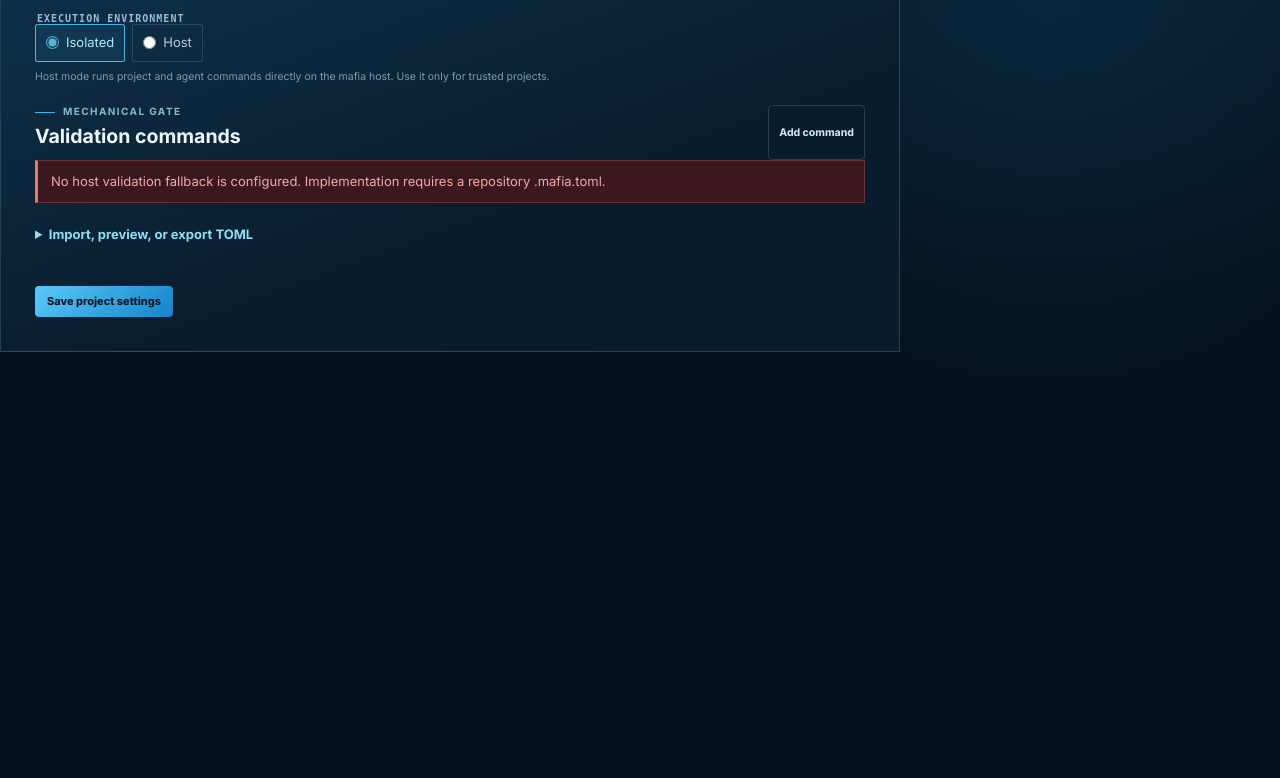
ProjectSettingsForm › links every invalid timeout to its own error and blocks submission
Click the button "Add command".
click(817, 132)  # box [768,105,865,160]
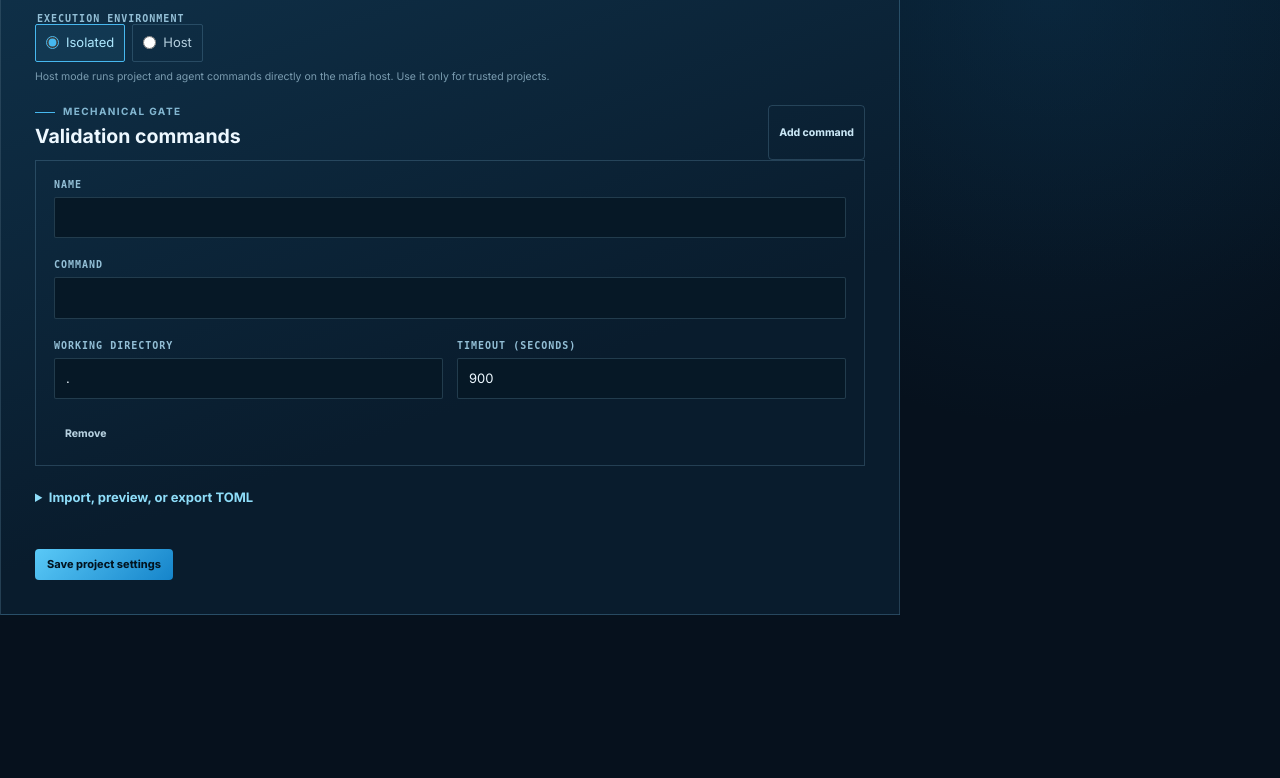
Click the button "Add command".
click(817, 132)  # box [768,105,865,160]
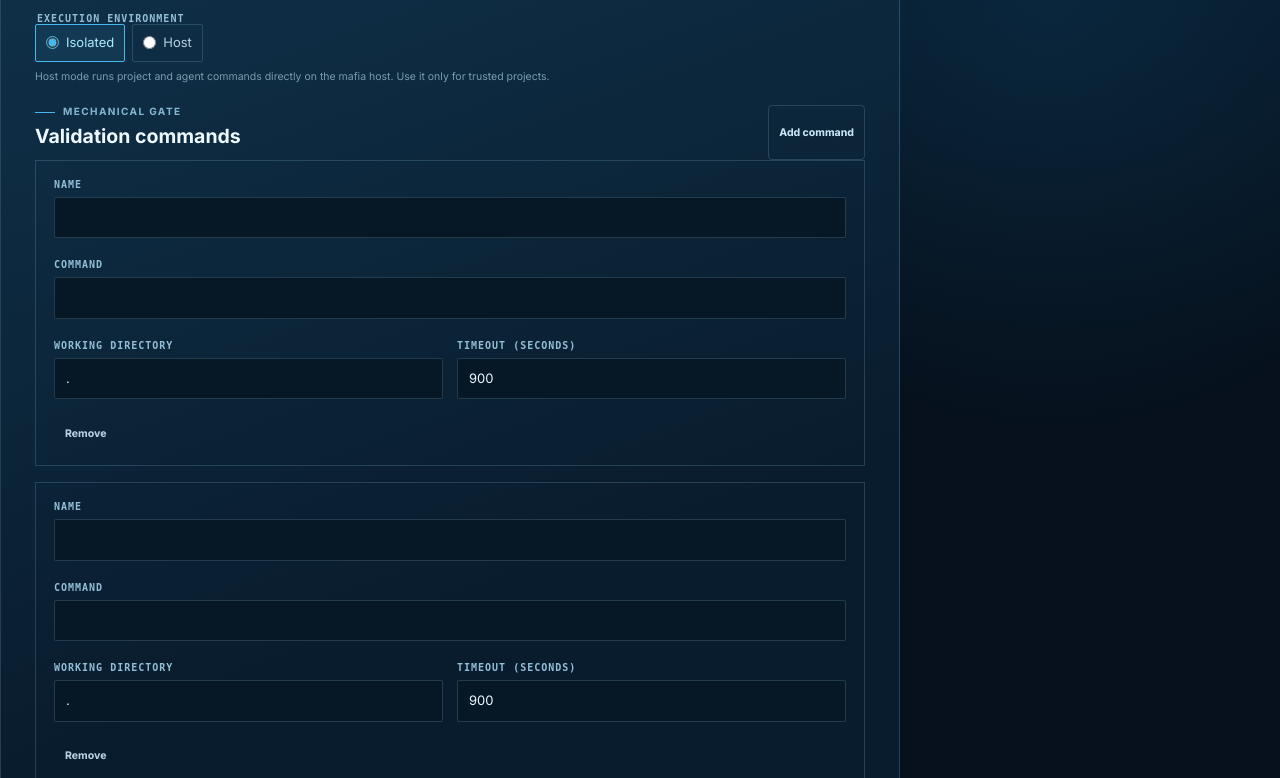
Replace the text in the 1st number field labelled "Timeout (seconds)" with "0" at (652, 378), box [457,358,846,399]
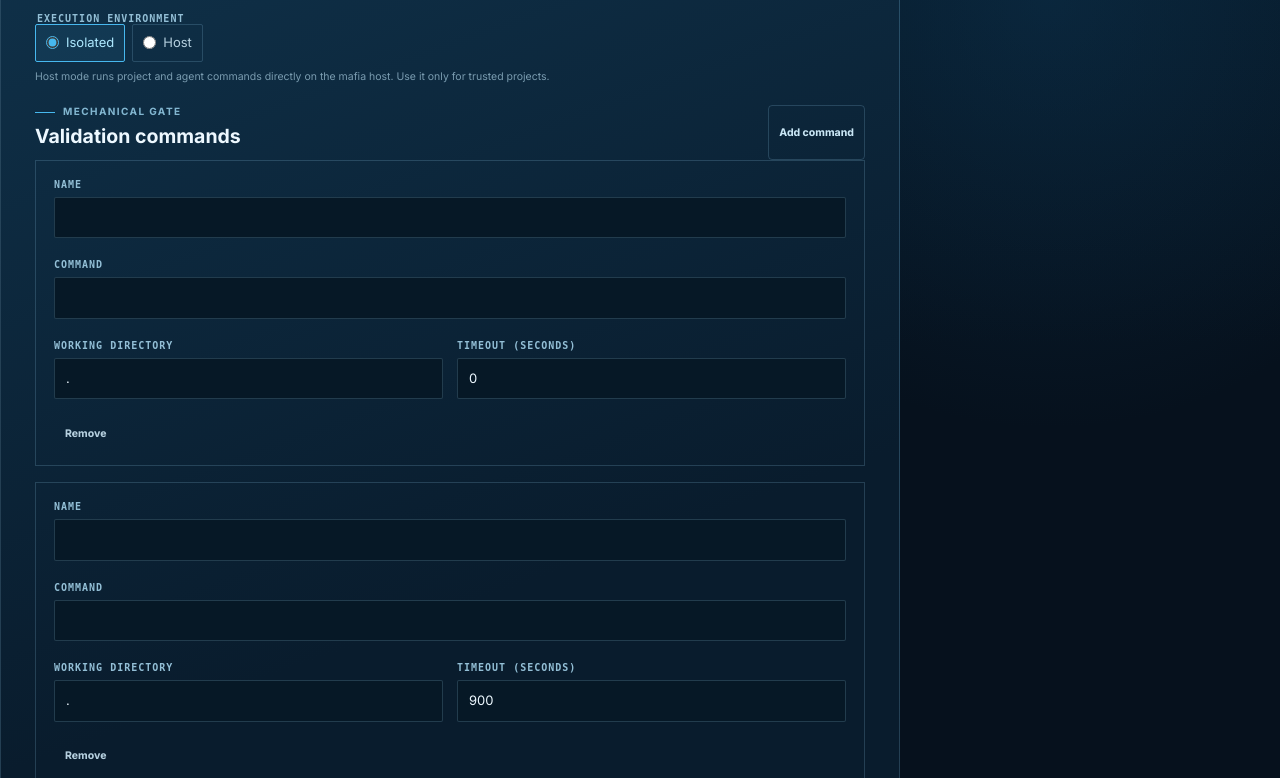
Replace the text in the 2nd number field labelled "Timeout (seconds)" with "3601" at (652, 701), box [457,680,846,722]
(page scrolled)
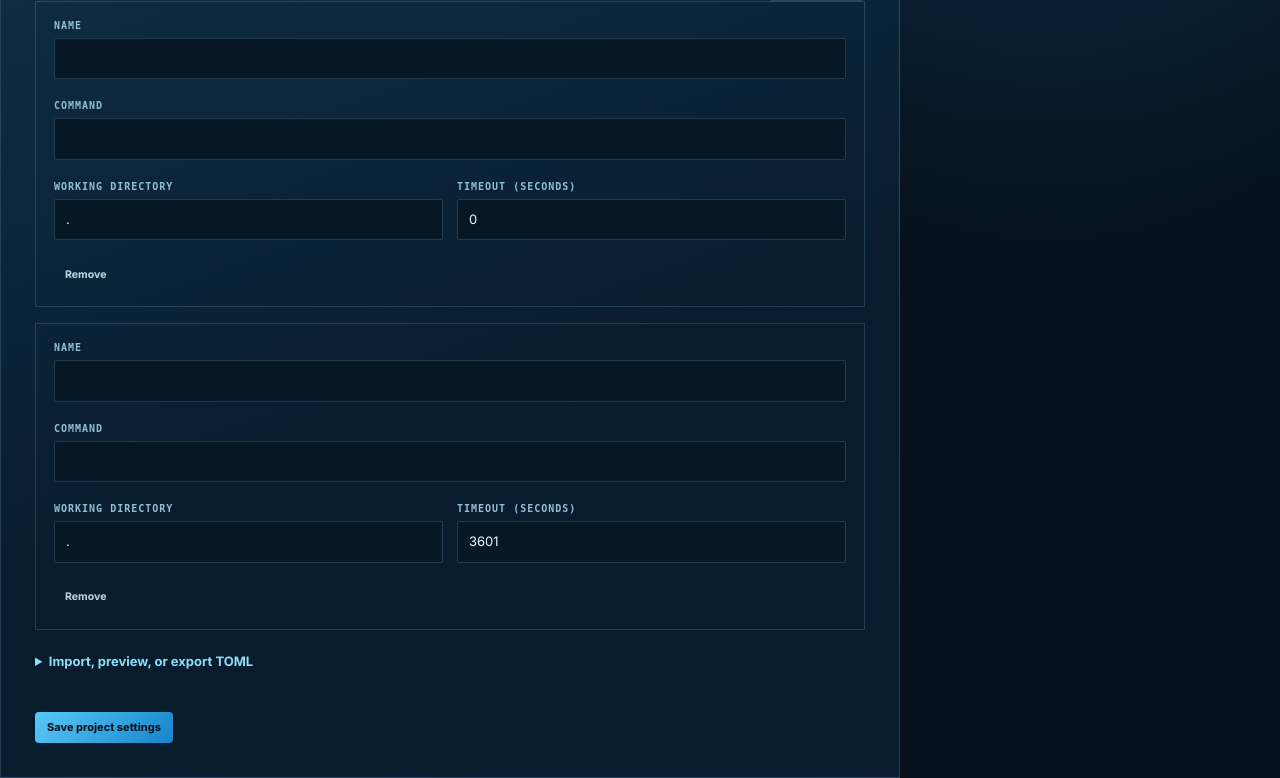
Click the button "Save project settings".
click(104, 728)  # box [35,712,173,743]
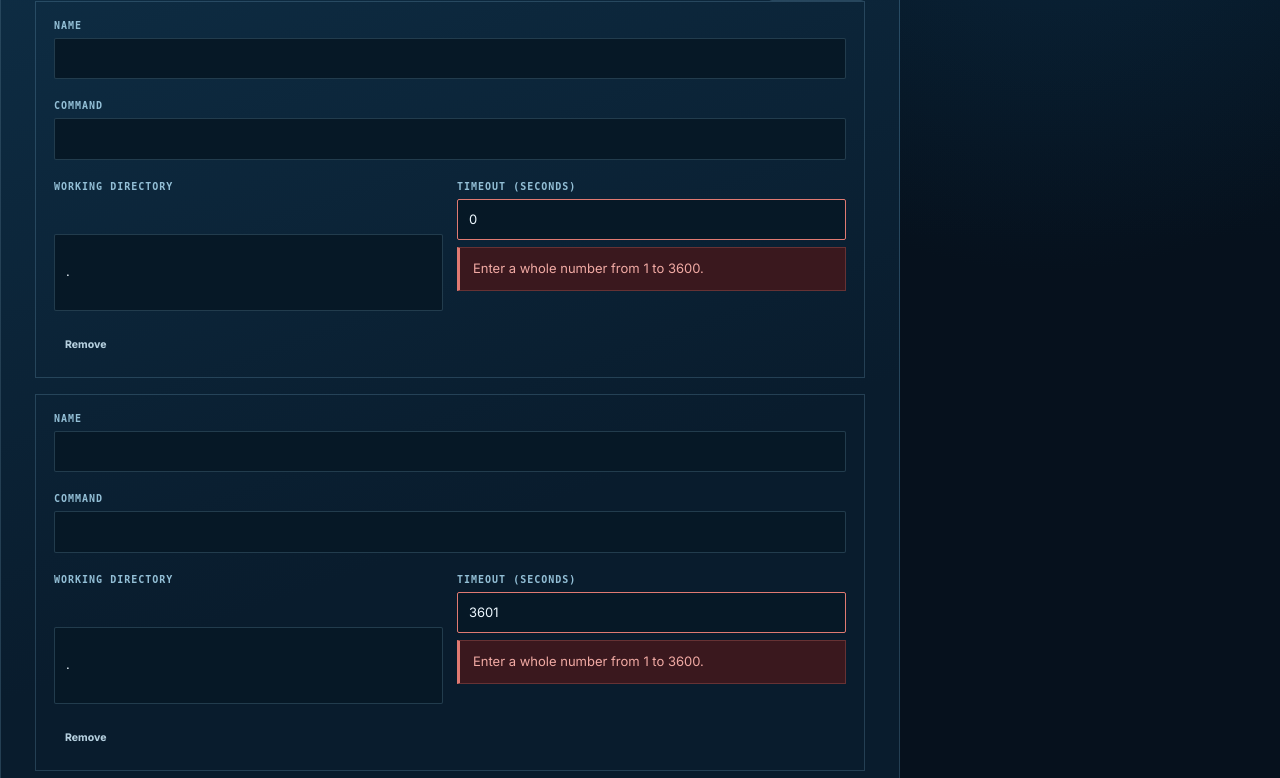
expect the number of messages is 2: met, box [457,247,846,290]; [457,640,846,684]
